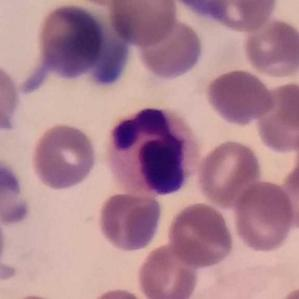Neutrophil: (104, 100, 206, 196)
RBC: (30, 3, 104, 78), (28, 121, 100, 192), (231, 178, 296, 254), (194, 137, 263, 208), (166, 200, 236, 269), (134, 14, 206, 81), (95, 189, 164, 254), (204, 67, 277, 126), (135, 239, 203, 298), (240, 15, 298, 80), (106, 0, 180, 48), (253, 79, 299, 155), (0, 160, 33, 231), (205, 0, 277, 32), (274, 157, 299, 231), (0, 58, 23, 137), (82, 285, 156, 299), (0, 204, 8, 282), (1, 291, 70, 299), (271, 281, 299, 299)
